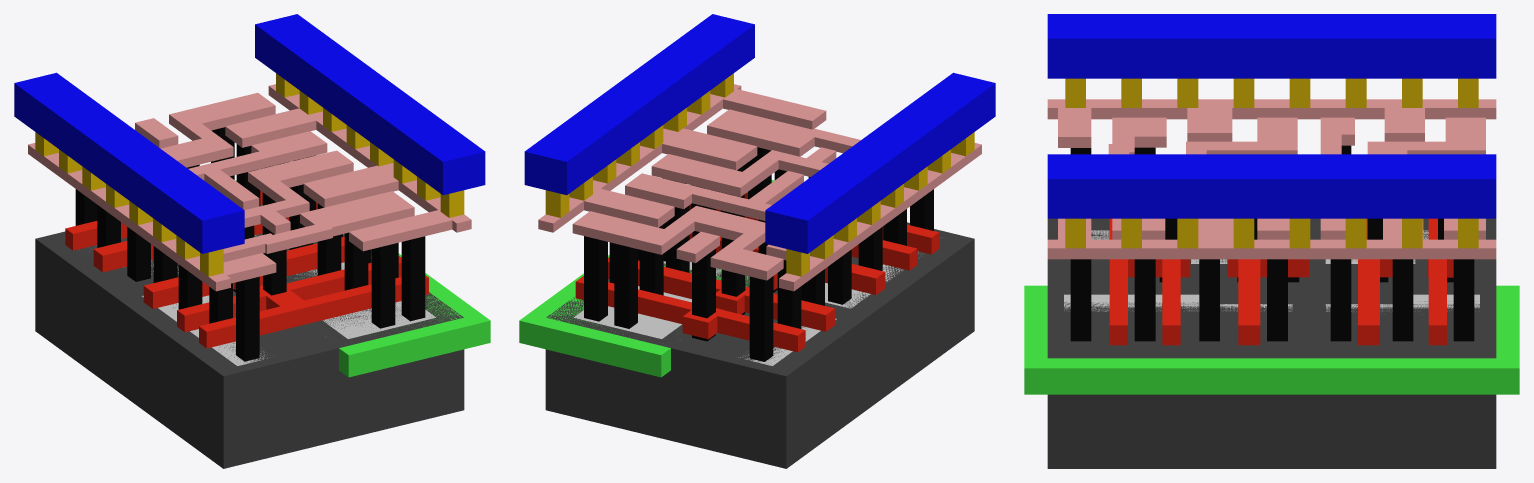
File: sky130_fd_sc_hd__clkdlybuf4s18_2.obj
The picture shows the model from 3 angles, left to right: view 1: azimuth 30°, elevation 25°; view 2: azimuth 150°, elevation 25°; view 3: azimuth 270°, elevation 25°; orthographic projection. The views are drawn at different scales.
Parts seen in each view (by area): view 1: subs, metal1, li, licon, poly, nwell, mcon, tap, diff; view 2: subs, metal1, li, licon, poly, nwell, mcon, tap, diff; view 3: metal1, subs, li, nwell, licon, poly, mcon, tap.
Boxes of the visible parts, x1=… form: subs: x1=35, y1=204, x2=464, y2=468; metal1: x1=14, y1=14, x2=485, y2=253; li: x1=28, y1=84, x2=471, y2=291; licon: x1=75, y1=127, x2=425, y2=361; poly: x1=65, y1=191, x2=428, y2=348; nwell: x1=235, y1=180, x2=490, y2=377; mcon: x1=35, y1=73, x2=464, y2=276; tap: x1=255, y1=234, x2=435, y2=338; diff: x1=95, y1=246, x2=273, y2=365; subs: x1=545, y1=222, x2=974, y2=468; metal1: x1=524, y1=14, x2=995, y2=253; li: x1=538, y1=84, x2=981, y2=291; licon: x1=584, y1=147, x2=933, y2=361; poly: x1=575, y1=191, x2=939, y2=352; nwell: x1=519, y1=180, x2=774, y2=377; mcon: x1=545, y1=73, x2=974, y2=276; tap: x1=574, y1=261, x2=721, y2=338; diff: x1=738, y1=251, x2=921, y2=365; metal1: x1=1047, y1=14, x2=1496, y2=218; subs: x1=1047, y1=218, x2=1496, y2=468; li: x1=1047, y1=99, x2=1496, y2=259; nwell: x1=1024, y1=285, x2=1519, y2=394; licon: x1=1070, y1=145, x2=1474, y2=341; poly: x1=1109, y1=218, x2=1453, y2=345; mcon: x1=1065, y1=78, x2=1478, y2=248; tap: x1=1064, y1=294, x2=1479, y2=311.
Bounding box in the file's own units: 3.2 × 2.74 × 4.06.
